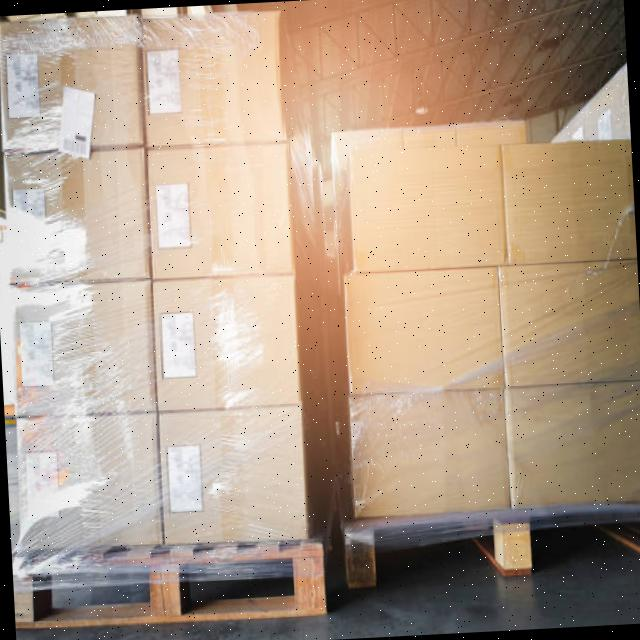Wooden-Pallets: (15, 547, 327, 631)
